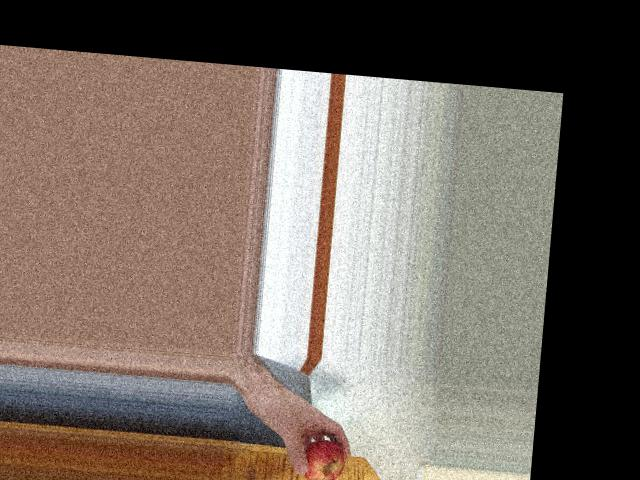apple: (294, 437, 347, 480)
